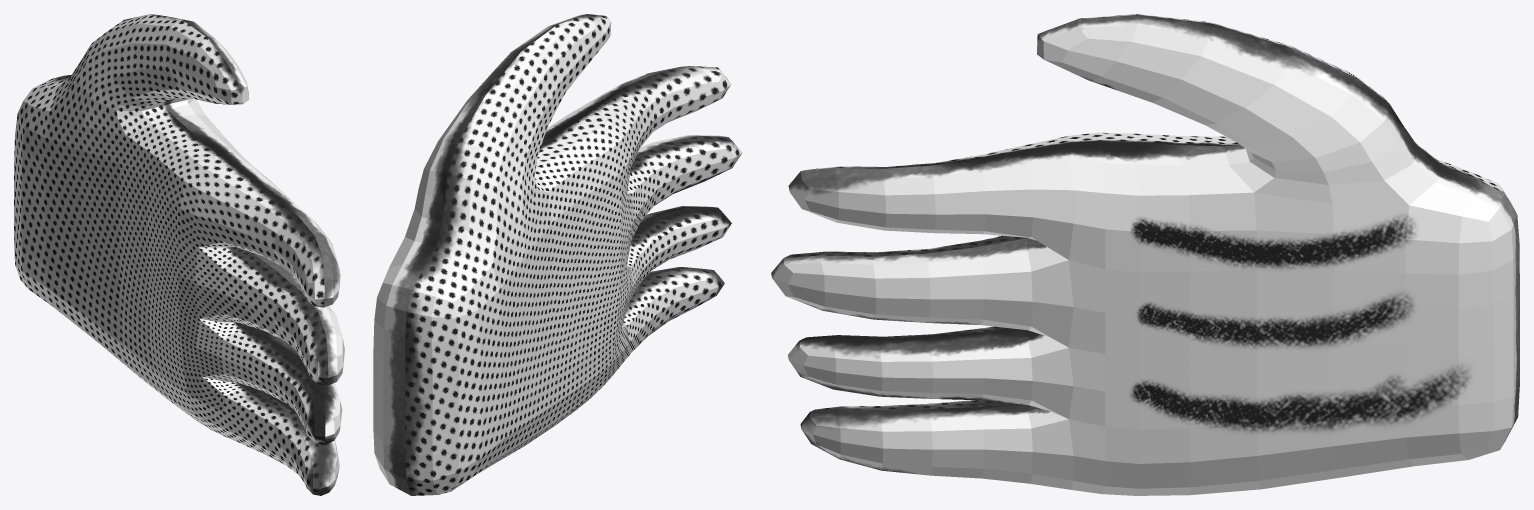
The model's file is mao esq 1.fbx.
The picture shows the model from 3 angles, left to right: view 1: azimuth 30°, elevation 25°; view 2: azimuth 150°, elevation 25°; view 3: azimuth 270°, elevation 25°; orthographic projection. The views are drawn at different scales.
Visible parts, largest first — view 1: Cube.008; view 2: Cube.008; view 3: Cube.008.
Boxes of the visible parts, box(x1,y1,x2,y2) form: Cube.008: box(14, 14, 344, 495); Cube.008: box(373, 14, 742, 495); Cube.008: box(771, 14, 1519, 495).
Bounding box in the file's own units: 88.09 × 304 × 438.
1 material, 1 textured.
